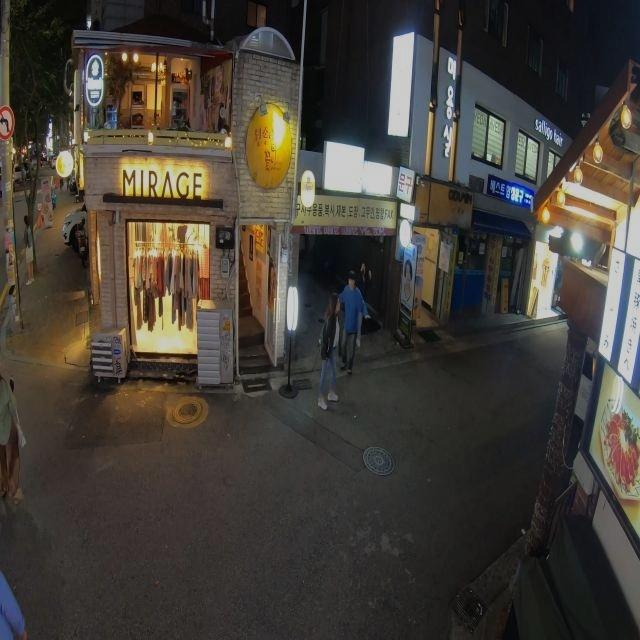fight: (312, 271, 374, 408)
non-fight: (0, 373, 25, 500)
